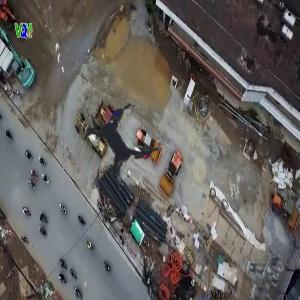drone: (46, 68, 190, 212)
